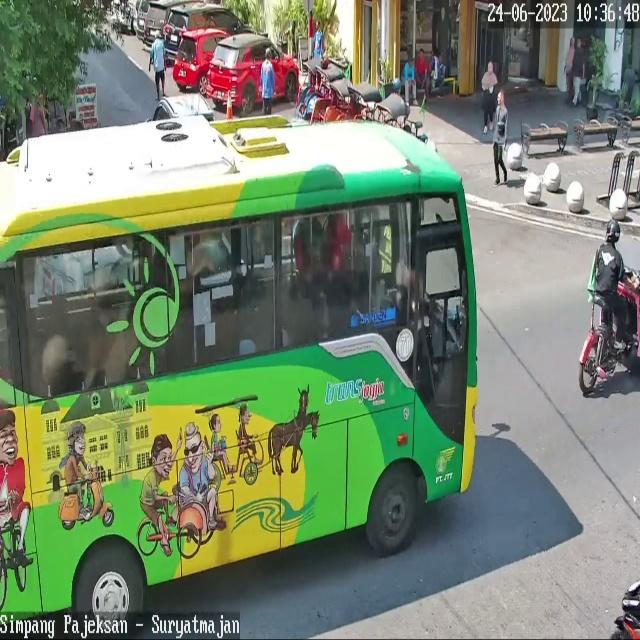car: (0, 115, 479, 640)
motorcycle: (206, 32, 299, 112), (163, 3, 257, 63), (174, 28, 231, 89), (154, 94, 216, 122), (144, 0, 170, 52)
